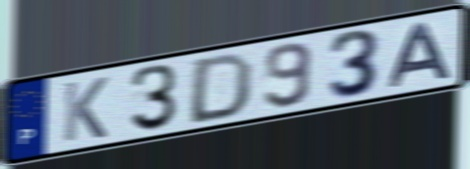3: (325, 28, 384, 101), (126, 63, 179, 133)
9: (262, 41, 314, 111)
A: (386, 19, 456, 90)
D: (185, 51, 257, 127)
K: (60, 74, 111, 145)
